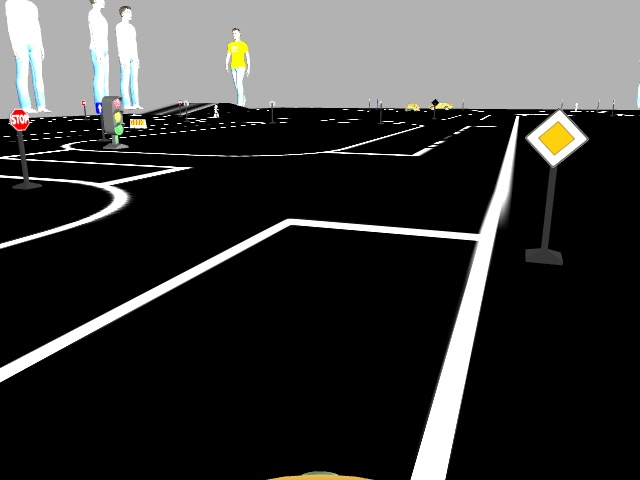ClosedRoadStand: (129, 117, 147, 128)
Priority: (528, 109, 585, 163)
Stop: (8, 109, 28, 130)
TrafficLight: (104, 96, 122, 136)
